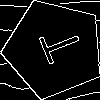T: (29, 24, 85, 69)
